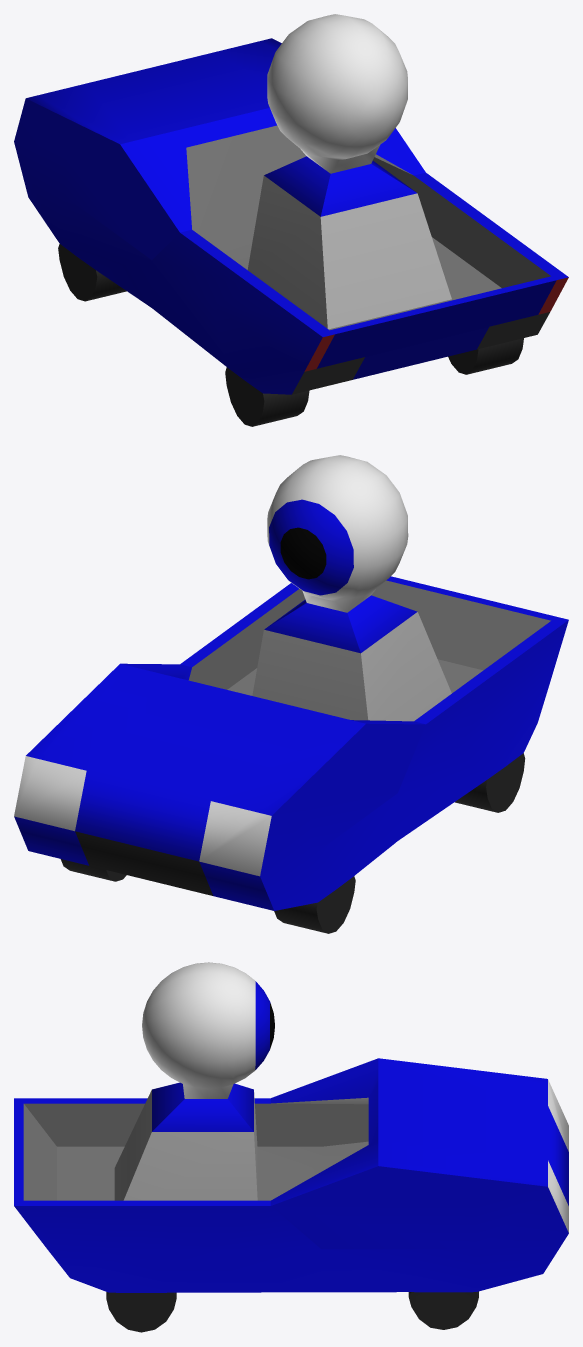
File: WarExplorerBlue.fbx
3 views of the same model, one above another, from view 1: azimuth 30°, elevation 25°; view 2: azimuth 150°, elevation 25°; view 3: azimuth 270°, elevation 25° (orthographic). The views are drawn at different scales.
Visible parts, largest first — view 1: pSphere2; view 2: pSphere2; view 3: pSphere2.
Boxes of the visible parts, x1,y1,x2,y2 form: pSphere2: (14,14,568,426); pSphere2: (14,455,568,933); pSphere2: (14,962,568,1332).
Size of the model in its own units: 2.1 by 2.64 by 4.31.
